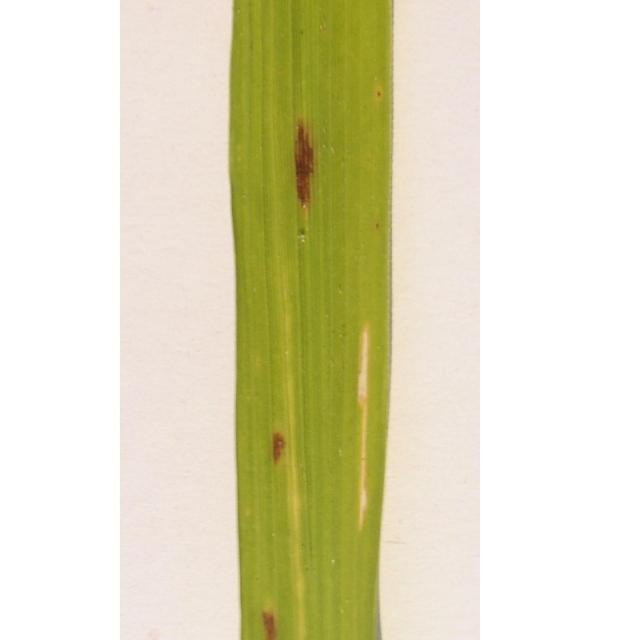Brown spot: (282, 102, 334, 214), (266, 424, 290, 474), (252, 604, 284, 640), (368, 80, 386, 105), (368, 212, 382, 236), (296, 226, 312, 243)
